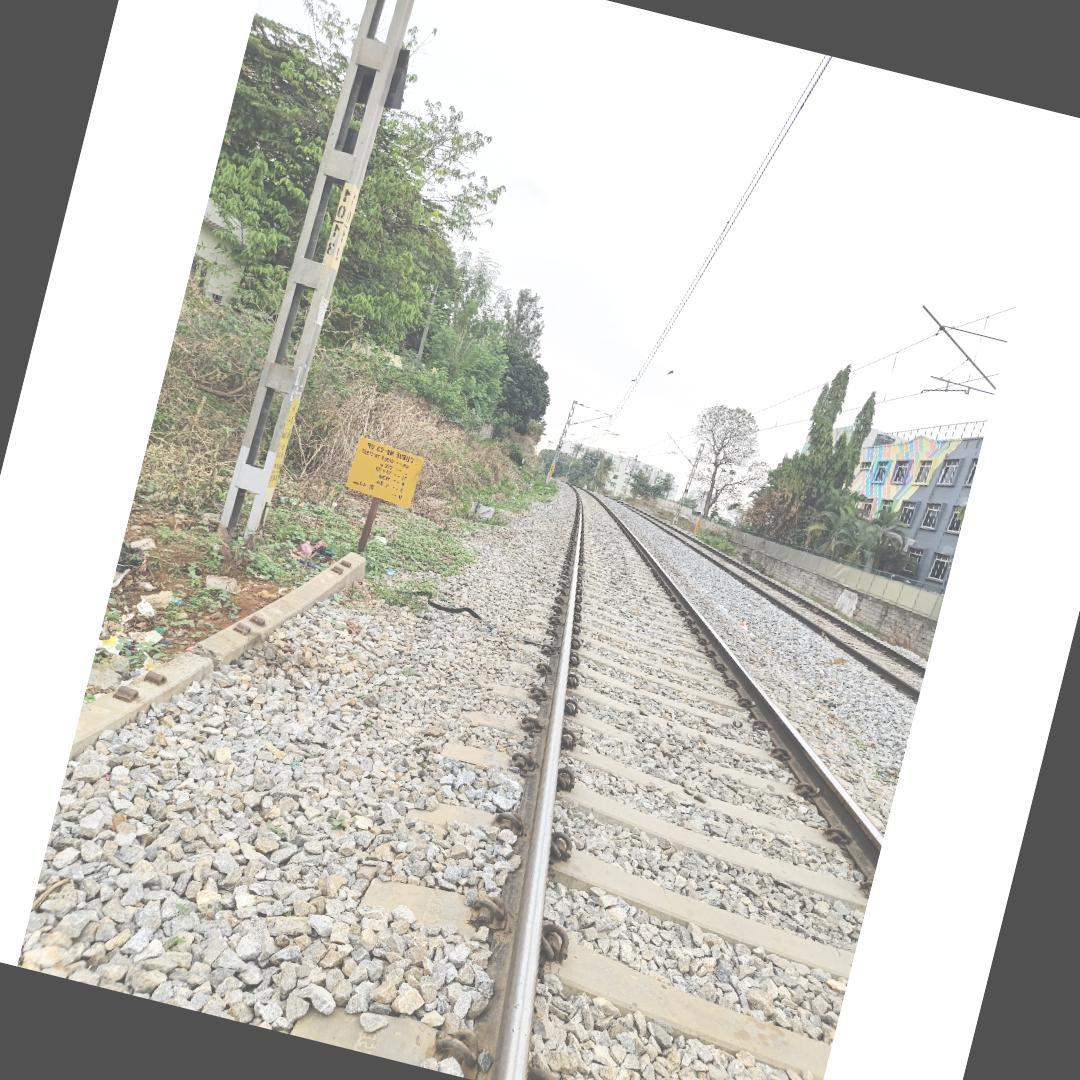track: (465, 476, 882, 1080)
